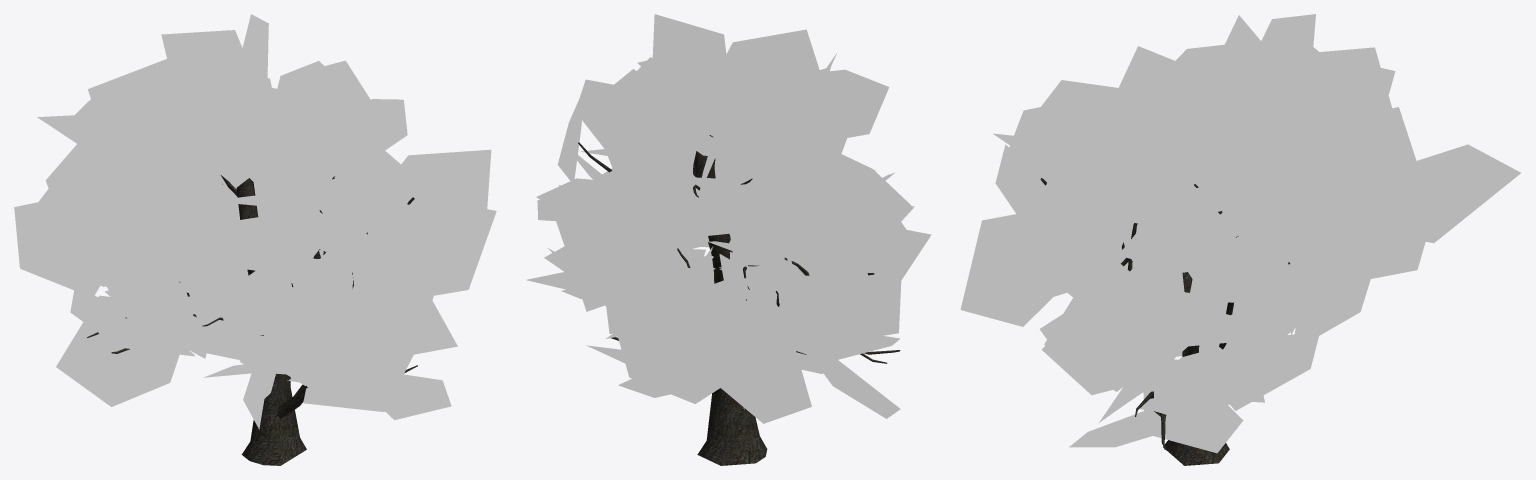
Rendered from large_oak_low2.DAE.
3 views of the same model, side by side, from view 1: azimuth 30°, elevation 25°; view 2: azimuth 150°, elevation 25°; view 3: azimuth 270°, elevation 25° (orthographic). The views are drawn at different scales.
Visible parts, largest first — view 1: Object374, large_oak_test_01_Bark; view 2: Object374, large_oak_test_01_Bark; view 3: Object374, large_oak_test_01_Bark.
Part boxes in pixels (x1,y1,x2,y2): Object374: (14,14,496,429); large_oak_test_01_Bark: (87,175,417,465); Object374: (526,14,931,423); large_oak_test_01_Bark: (578,135,900,465); Object374: (960,14,1520,453); large_oak_test_01_Bark: (1040,178,1289,465).
Size of the model in its own units: 14.6 by 14.77 by 18.41.
